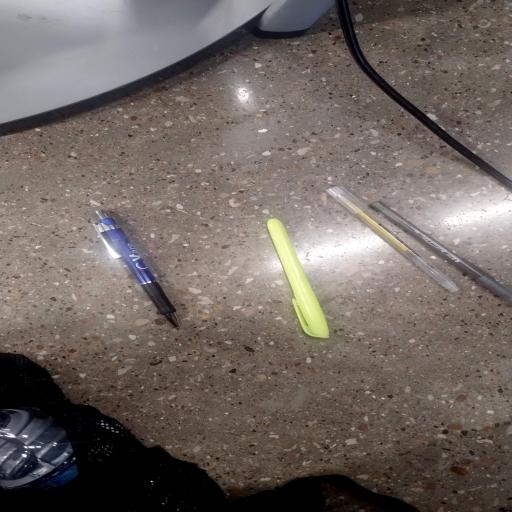pen: (370, 202, 511, 303), (327, 187, 458, 291), (94, 211, 179, 327), (267, 219, 329, 338)
